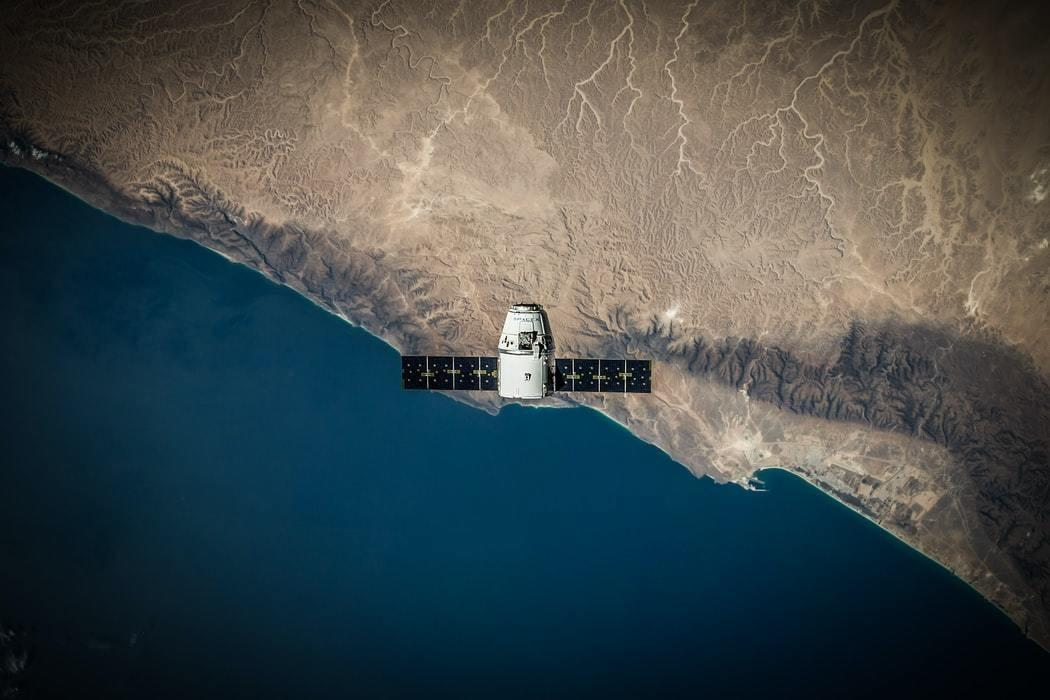body: (496, 302, 556, 402)
solar: (553, 357, 656, 395), (400, 354, 500, 393)
